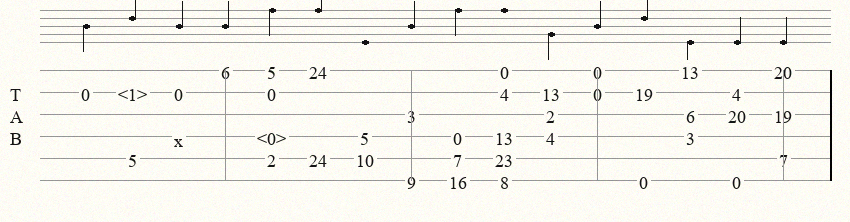0: (81, 84, 94, 100), (174, 84, 187, 100), (267, 84, 280, 100), (453, 128, 466, 144), (500, 62, 513, 78), (593, 62, 606, 78), (593, 84, 606, 100), (639, 172, 652, 188), (732, 172, 745, 188)
10: (356, 150, 378, 166)
13: (495, 128, 517, 144), (542, 84, 564, 100), (681, 62, 703, 78)
16: (449, 172, 471, 188)
19: (635, 84, 657, 100), (774, 106, 796, 122)
2: (267, 150, 280, 166), (546, 106, 559, 122)
20: (728, 106, 750, 122), (774, 62, 796, 78)
23: (495, 150, 517, 166)
24: (309, 150, 331, 166), (309, 62, 331, 78)
3: (407, 106, 420, 122), (686, 128, 699, 144)
4: (500, 84, 513, 100), (546, 128, 559, 144), (732, 84, 745, 100)
5: (128, 150, 141, 166), (267, 62, 280, 78), (360, 128, 373, 144)
6: (221, 62, 234, 78), (686, 106, 699, 122)
7: (453, 150, 466, 166), (779, 150, 792, 166)
8: (500, 172, 513, 188)
9: (407, 172, 420, 188)
harmonic: (118, 84, 151, 100), (257, 128, 290, 144)
x: (174, 130, 187, 142)
